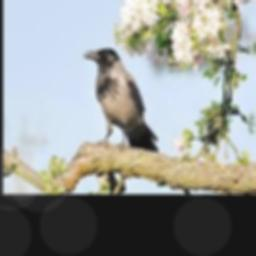Crow: (85, 48, 160, 149)
